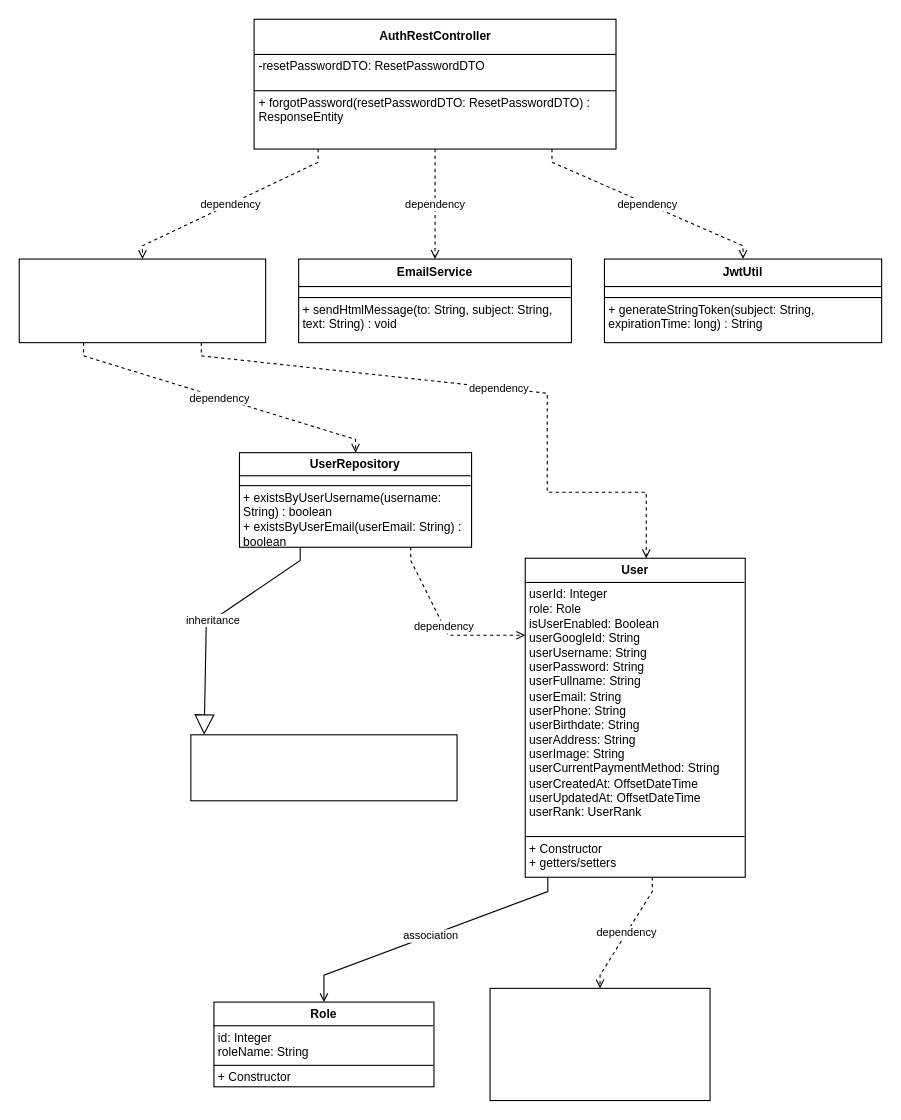
This 901x1120 diagram has some shape labels left out. The centre of each missing label's shape, as x and y in pixels:
"JpaRepository" goes at [323,767].
"ResetPasswordDTO - email: String + Constructor + getters/setters" goes at [599,1044].
"UserService + findByEmail(email: String) : User" goes at [142,300].
